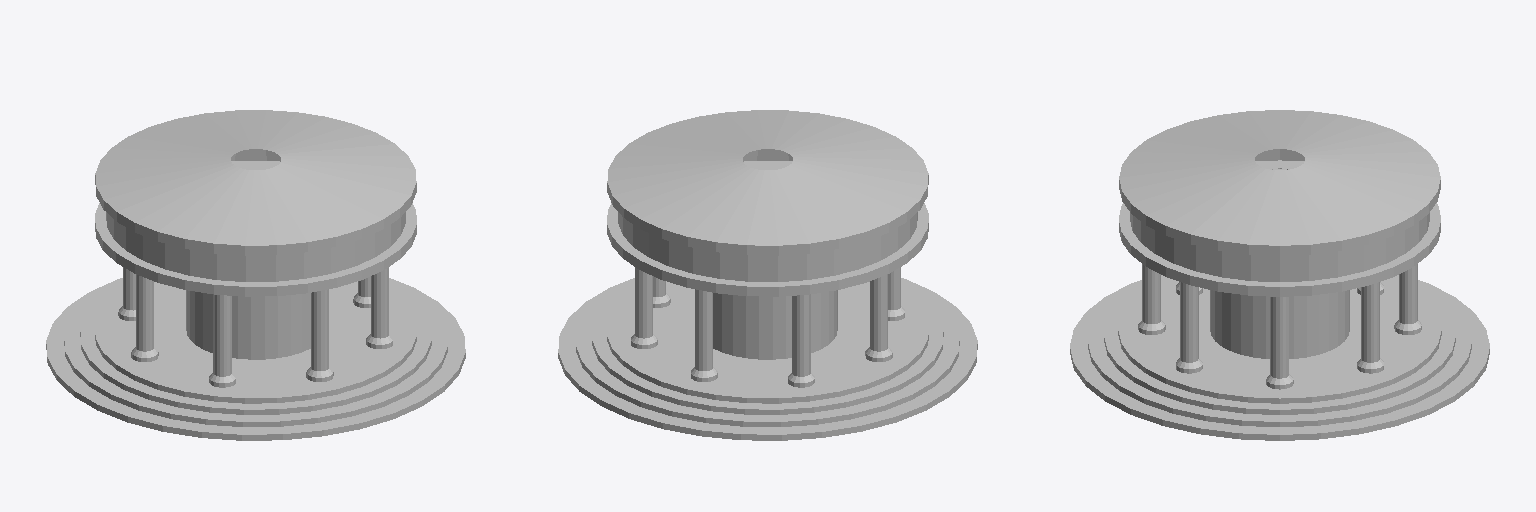
File: temple.obj
3 renders of one model, left to right at view 1: azimuth 30°, elevation 25°; view 2: azimuth 150°, elevation 25°; view 3: azimuth 270°, elevation 25°, orthographic.
Bounding box in the file's own units: 16.94 × 8.56 × 16.94.